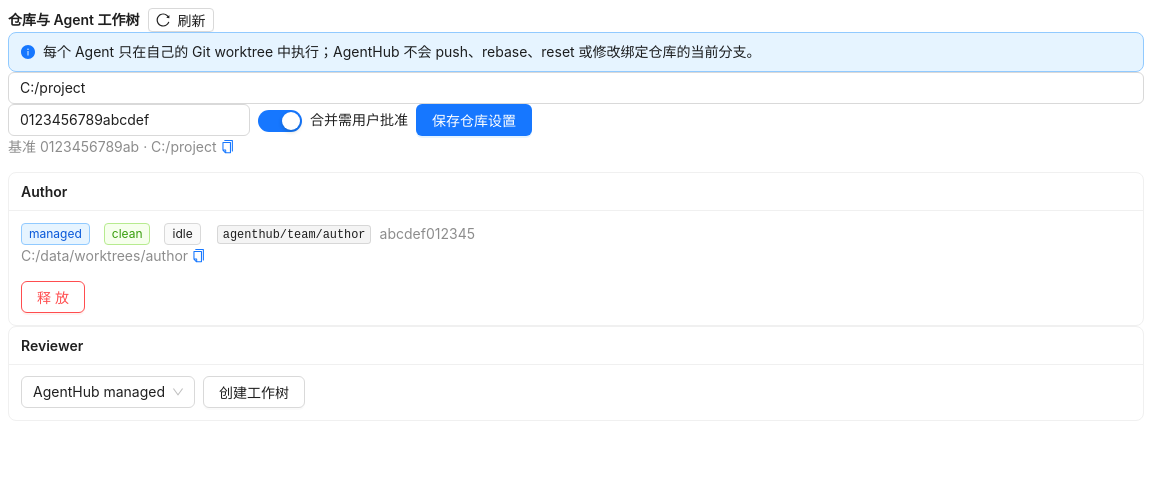
RepositoryWorktreesSection › creates missing managed worktrees and exposes branch status
expect the text "agenthub/team/author" is shown: met, box [217,225,371,244]
Click the button "创建工作树": (254, 392) [203,376,305,408]
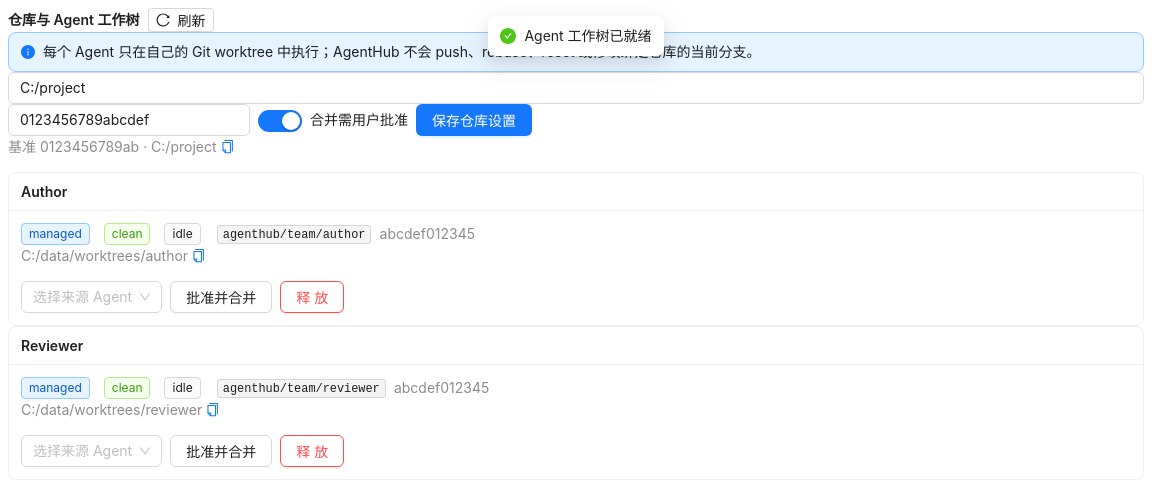
expect the text "agenthub/team/reviewer" is shown: met, box [217,379,386,398]
